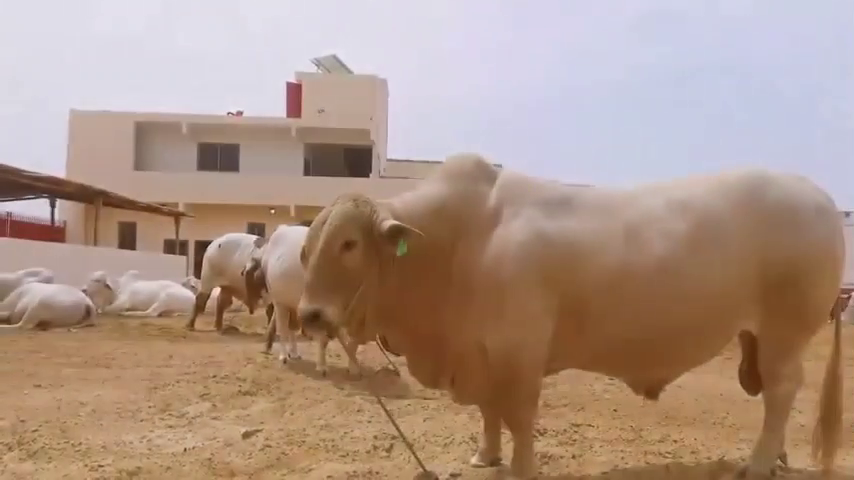bo: (296, 141, 847, 480), (237, 216, 343, 369), (188, 219, 264, 337), (87, 260, 192, 323), (2, 276, 99, 331), (1, 259, 60, 304)
